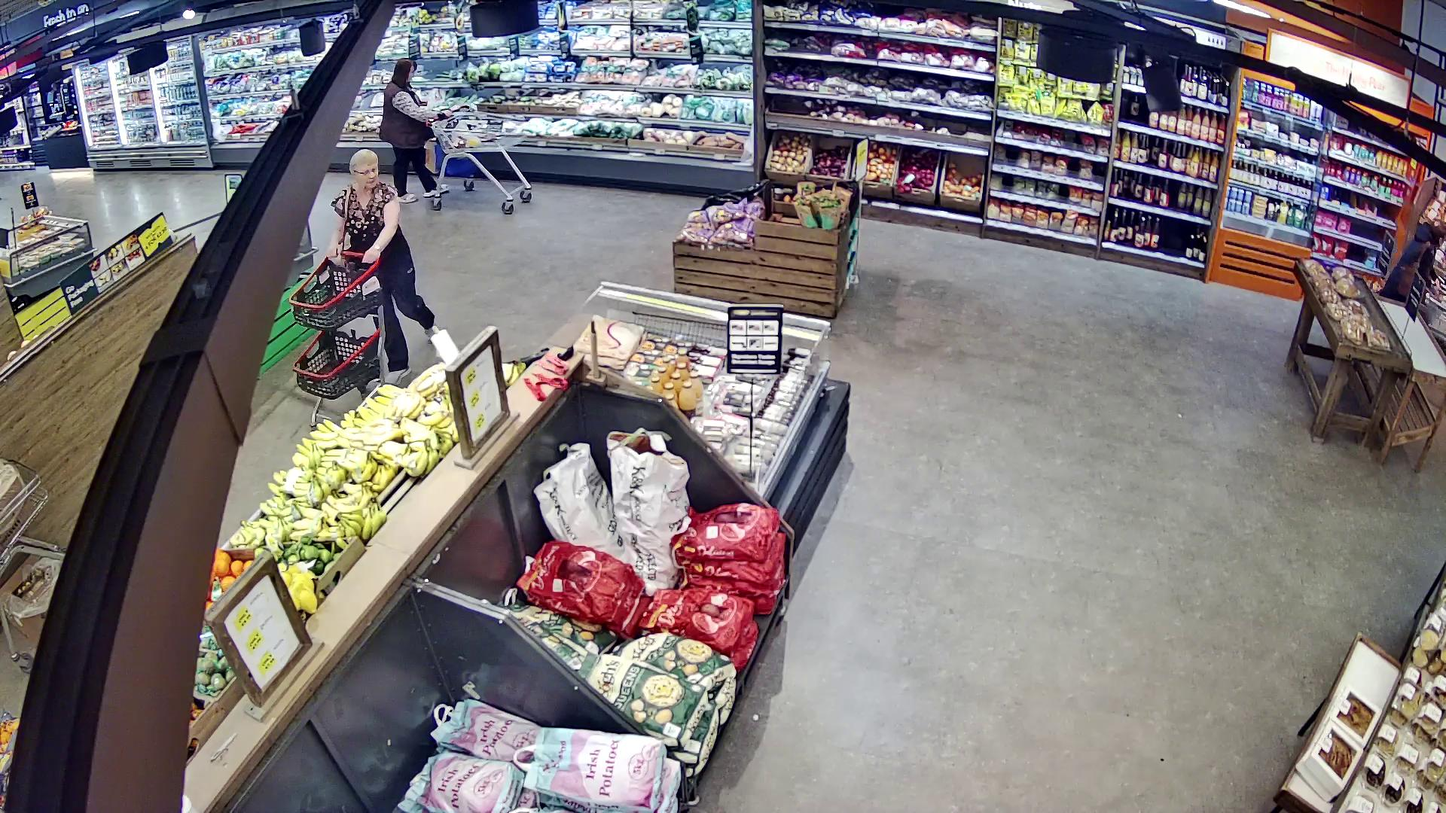empty-trolly: (290, 249, 385, 431)
filled-shopping-bags: (423, 138, 478, 177)
filled-trolly: (432, 117, 532, 216)
person: (328, 150, 438, 383), (379, 57, 453, 203)
person-with-basket-trolly-and-shopping-bag: (378, 58, 532, 215)
person-with-empty-basket-trolly: (291, 150, 439, 431)
